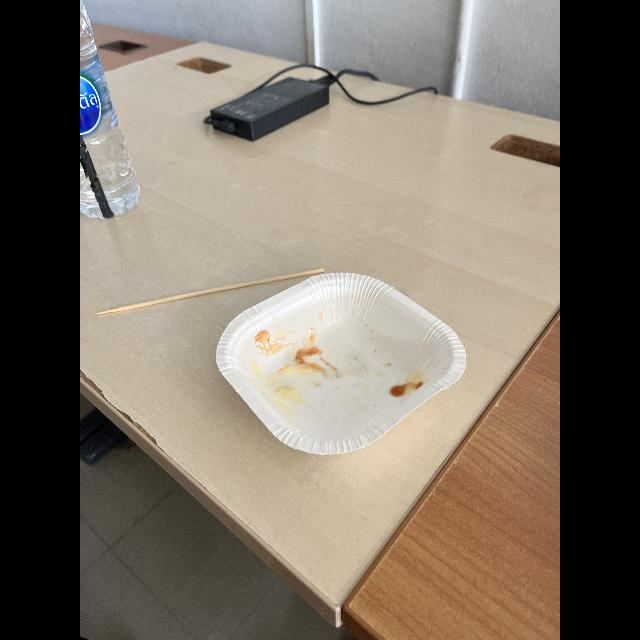stick: (218, 264, 470, 444), (96, 262, 330, 318)
